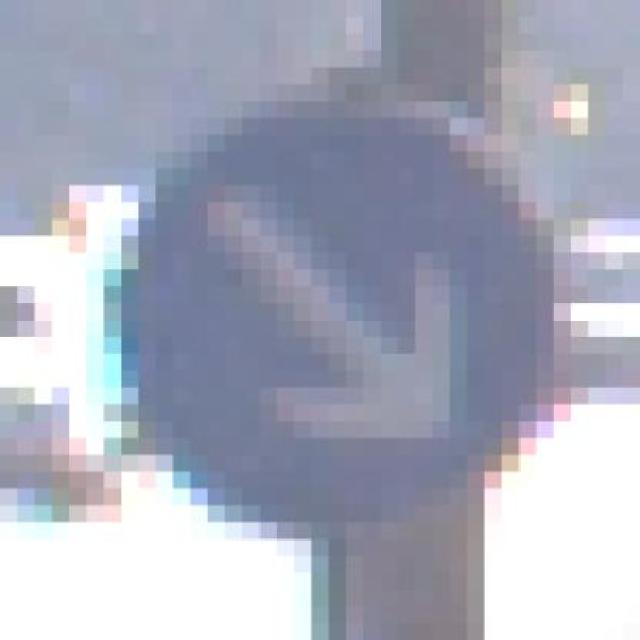Keep-Right: (86, 84, 588, 539)
